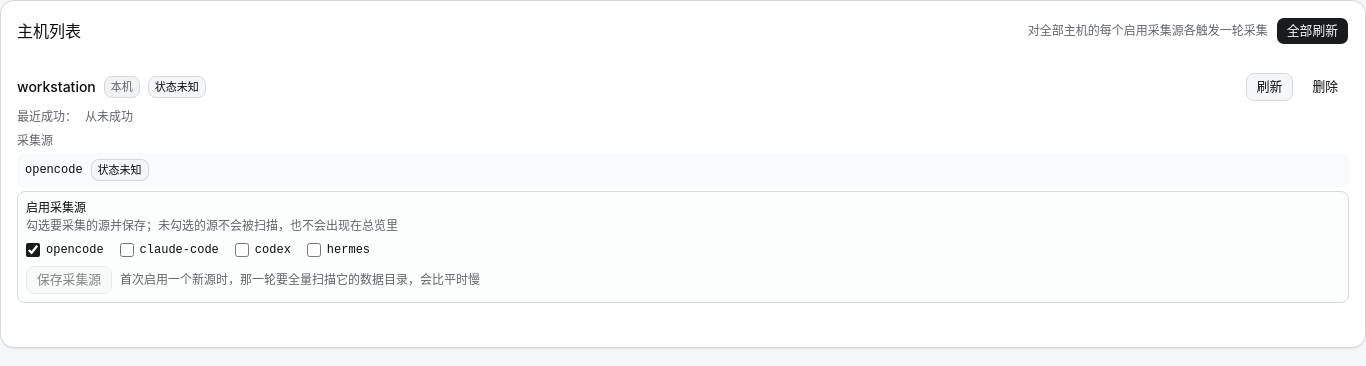
Scenario: HostList 采集源勾选 › 重新勾上一个源后校验提示消失，保存恢复可用
Click the checkbox labelled "opencode": (33, 250) [26,243,40,257]
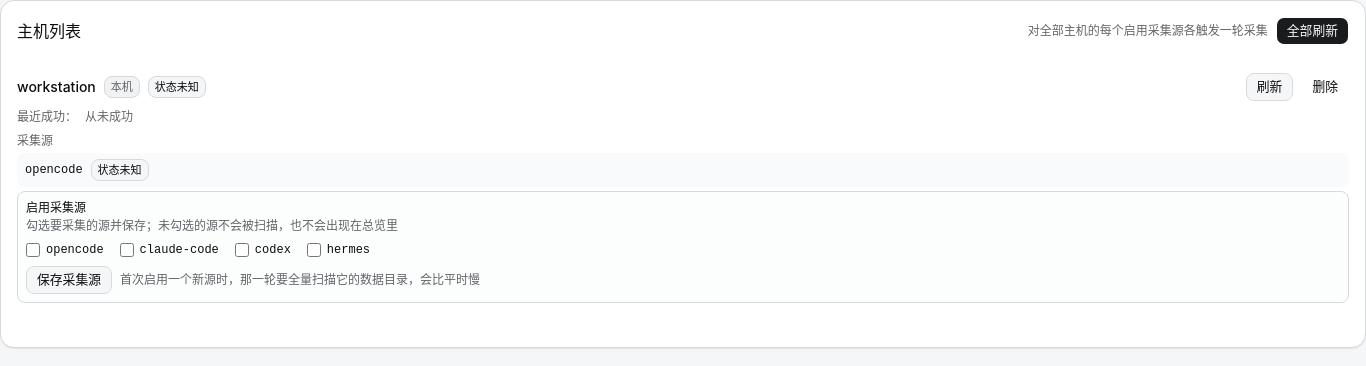
Click the button with test id "host-sources-save-local-host-000001": (69, 280) [26,266,112,294]
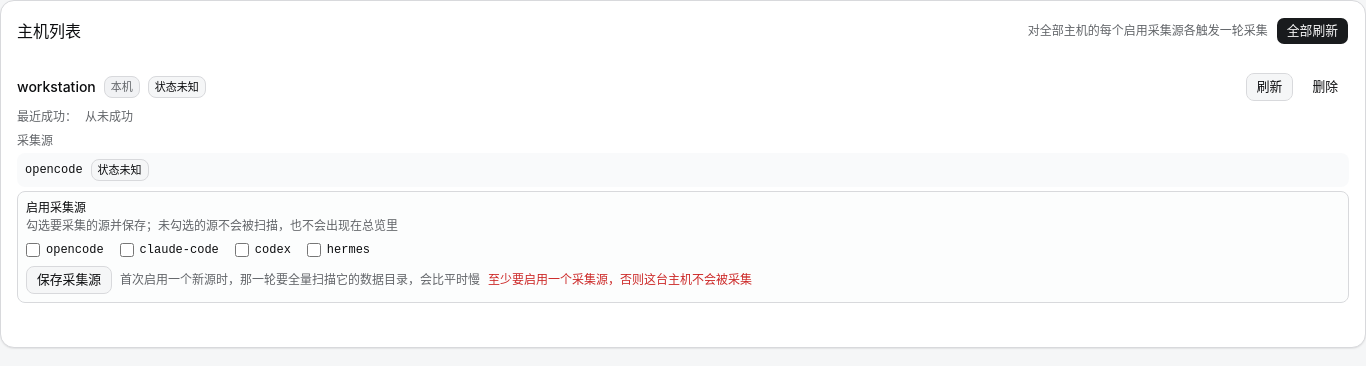
Now the message "至少要启用一个采集源，否则这台主机不会被采集" is shown, box [488,272,752,288]
Click the checkbox labelled "hermes": (314, 250) [307,243,321,257]
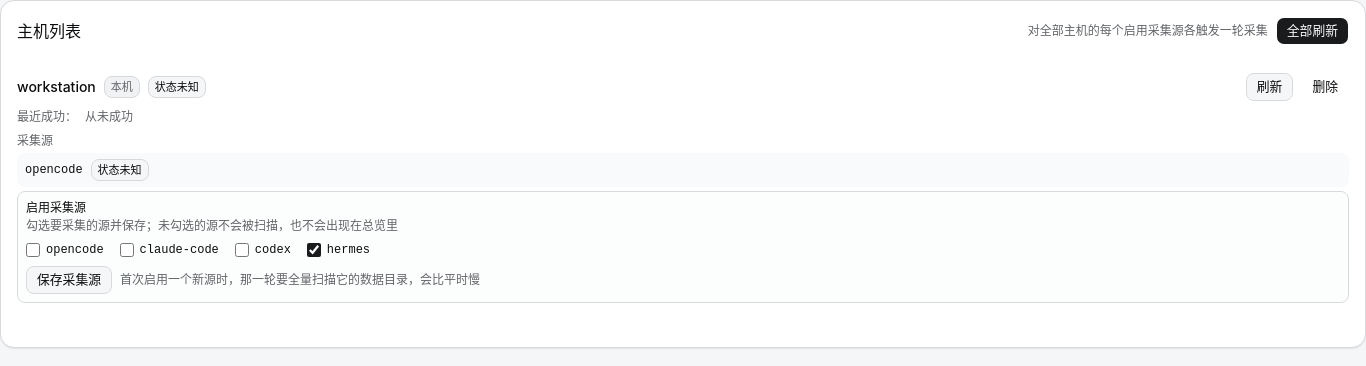
Now the button with test id "host-sources-save-local-host-000001" is enabled, box [26,266,112,294]
Now the message with test id "host-sources-validation-local-host-000001" is gone
